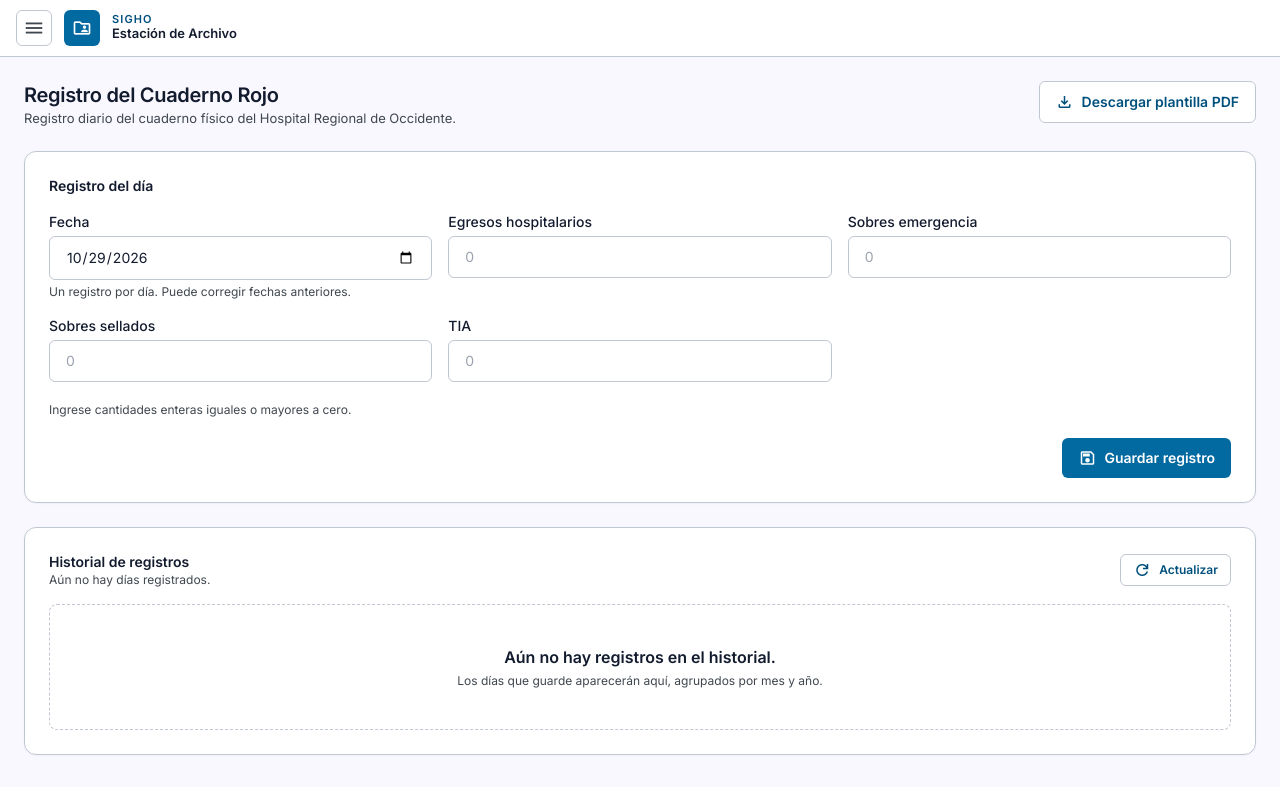
Test: CuadernoRojoPage › muestra el historial vacío y luego el registro guardado
The width and height of the screenshot is (1280, 787).
Expected: the text "Aún no hay registros en el historial." is shown, [504, 647, 776, 667]
Expected: the button "Guardar registro" is enabled, [1062, 438, 1231, 478]
In the field labelled "Egresos hospitalarios": point(640, 257) [448, 236, 832, 278], type "3"
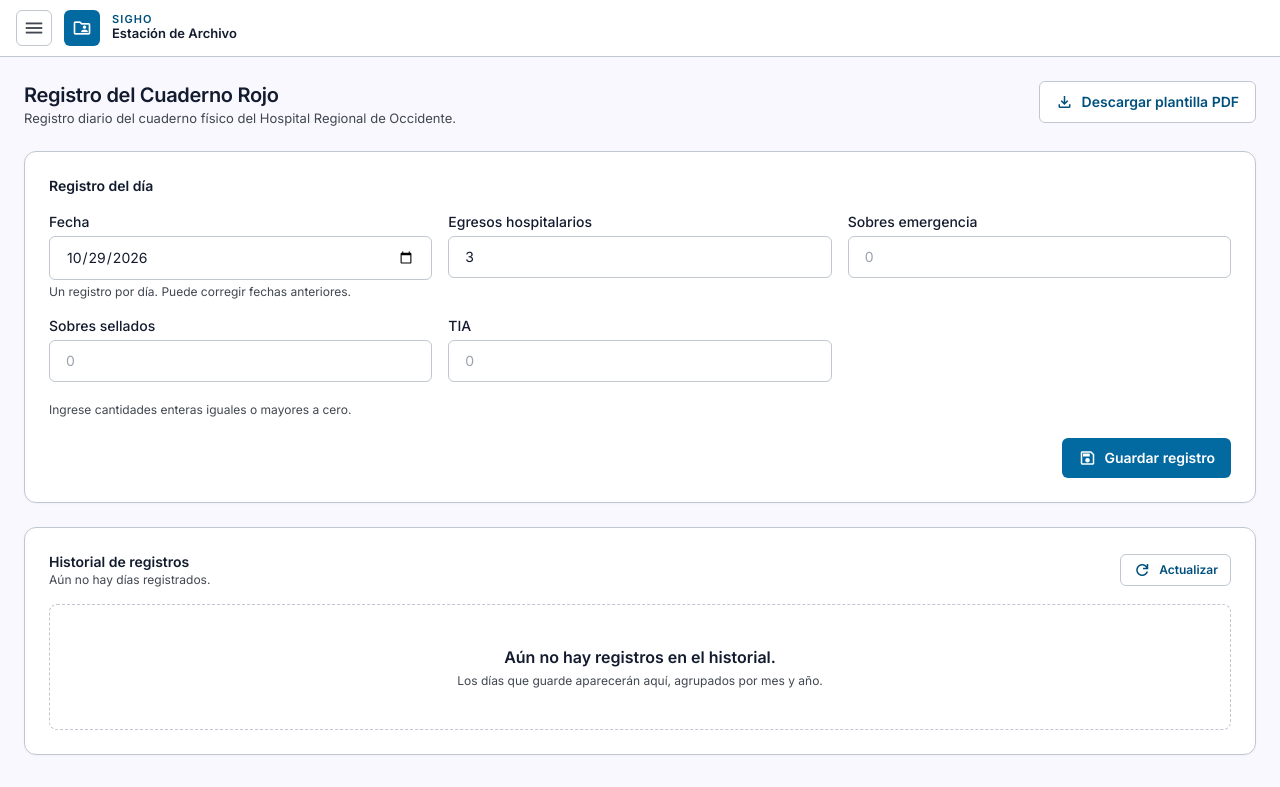
In the field labelled "Sobres emergencia": point(1039, 257) [848, 236, 1231, 278], type "4"
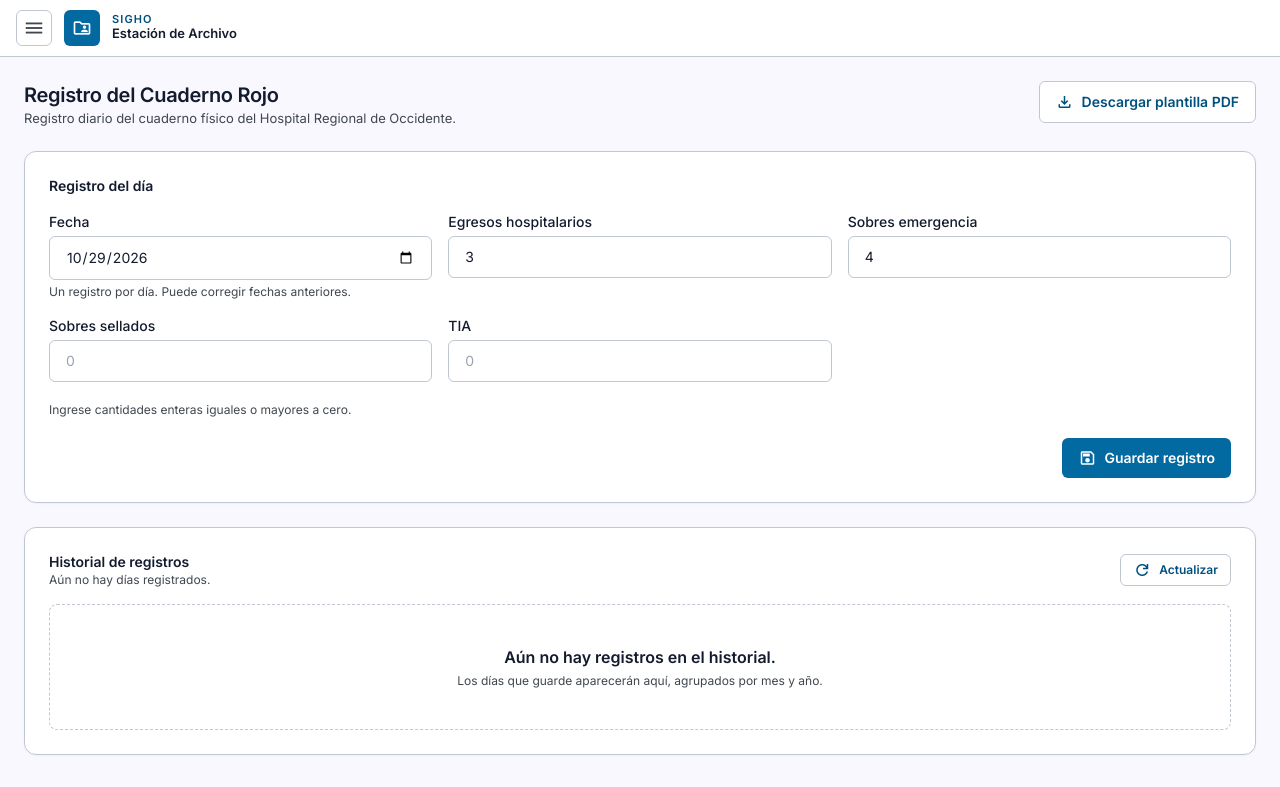
In the field labelled "Sobres sellados": point(241, 361) [49, 340, 432, 382], type "5"
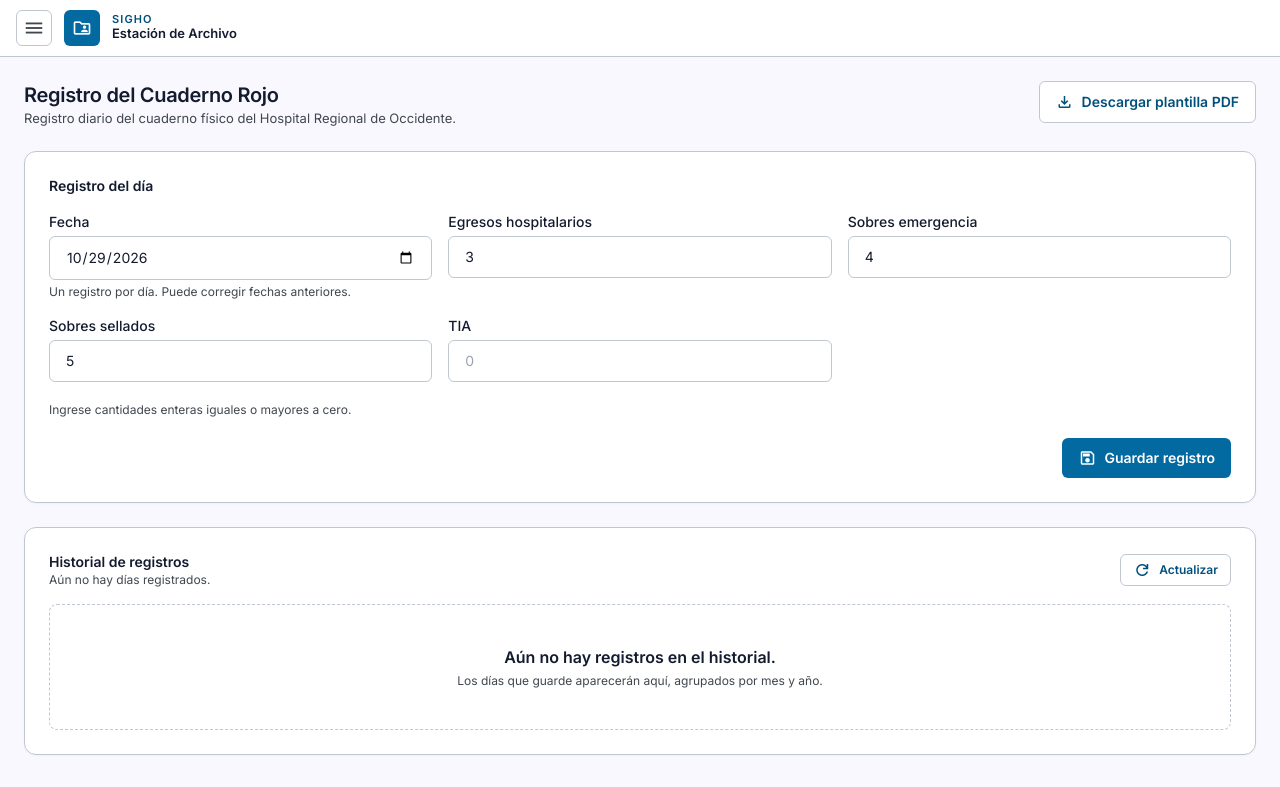
In the field labelled "TIA": point(640, 361) [448, 340, 832, 382], type "6"
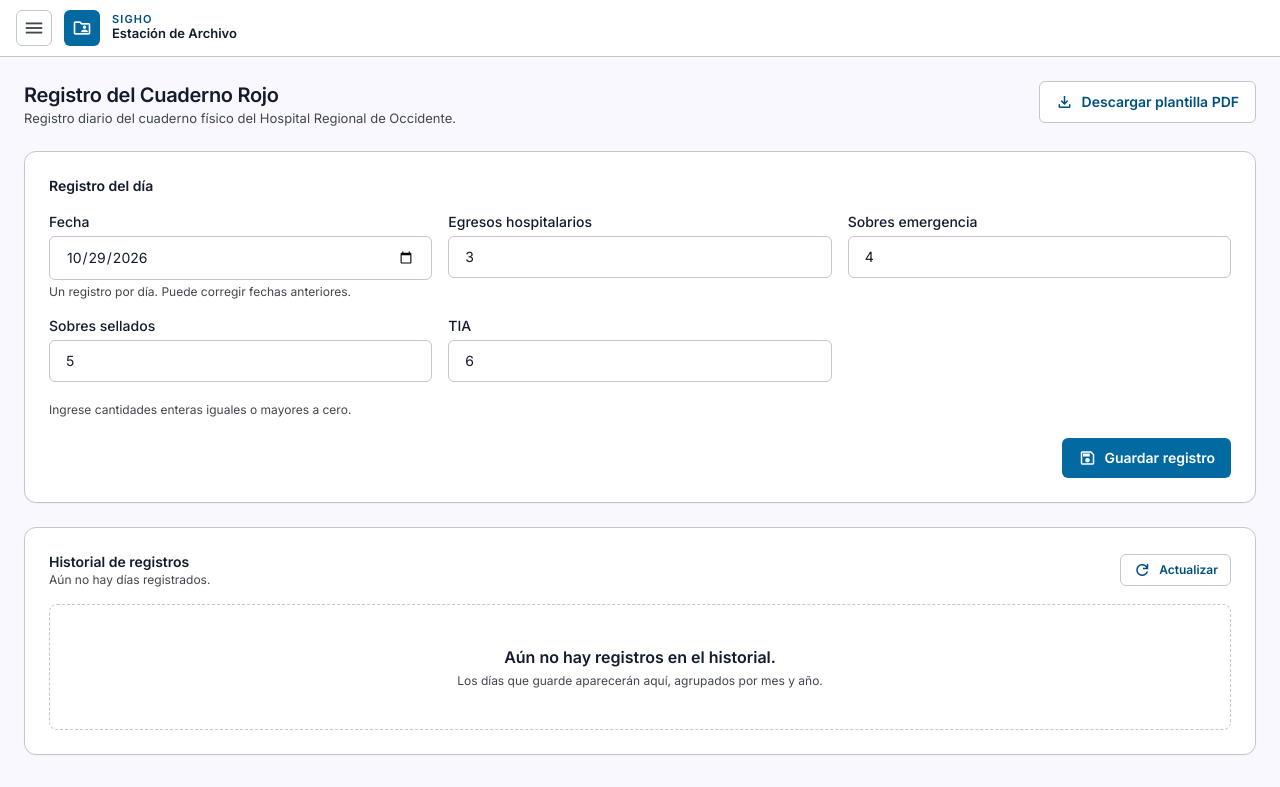
Click the button "Guardar registro": point(1147, 458) [1062, 438, 1231, 478]
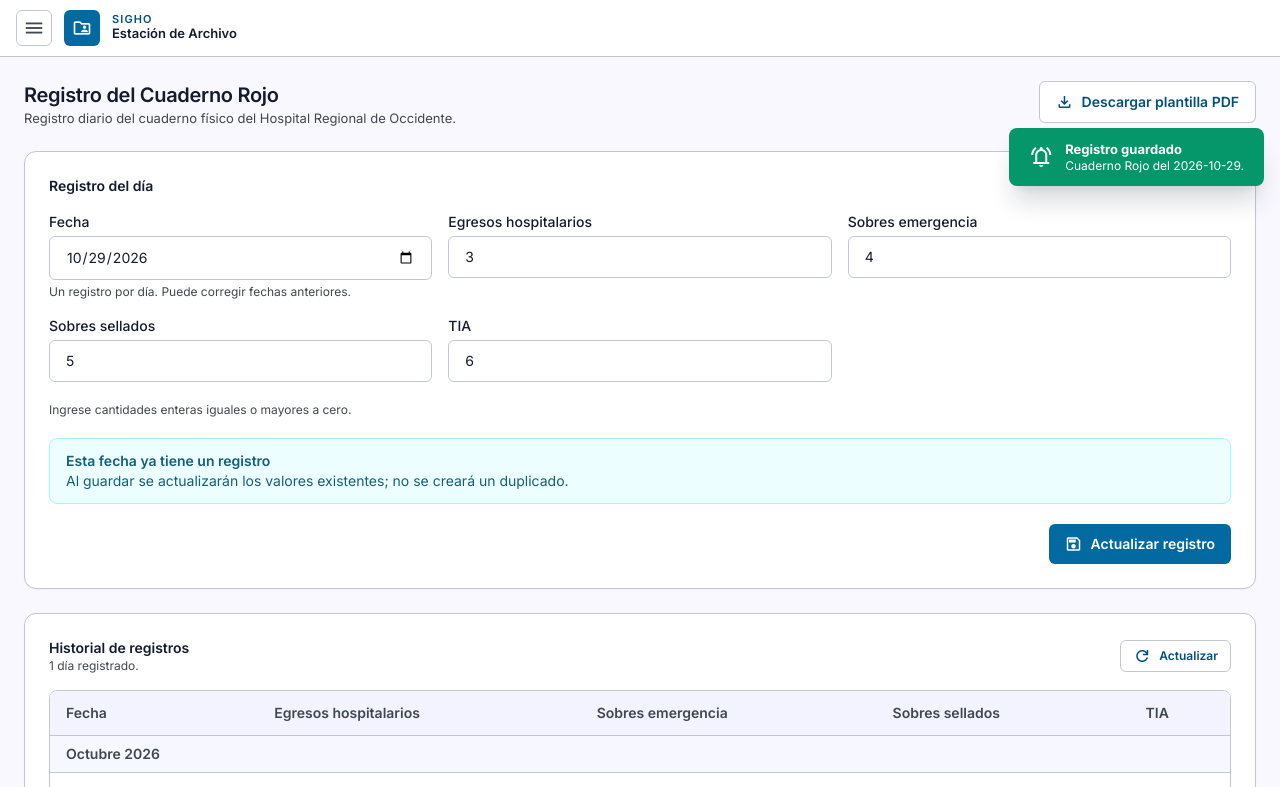
Expected: the text "Registro guardado" is shown, [1065, 141, 1182, 157]
Expected: the text "1 día registrado." is shown, [49, 658, 139, 673]
Expected: the text "Aún no hay registros en el historial." is gone
